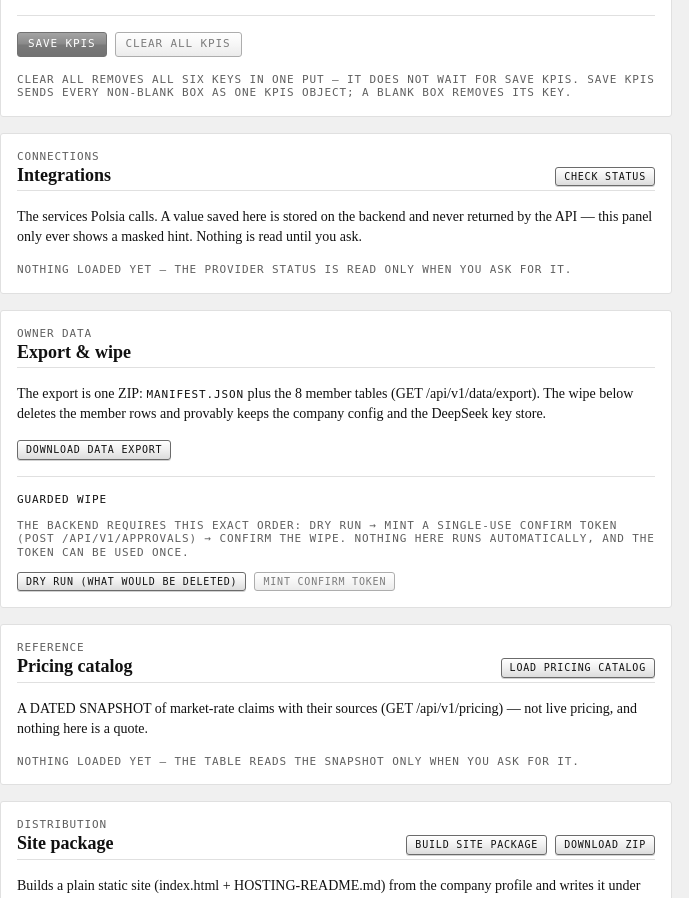
Test case: u11 settings — data export & wipe › the export downloads the REAL ZIP response (GET /api/v1/data/export)
(page scrolled)
Click the button with test id "settings-data-export" at (94, 450), box [17, 440, 171, 460]
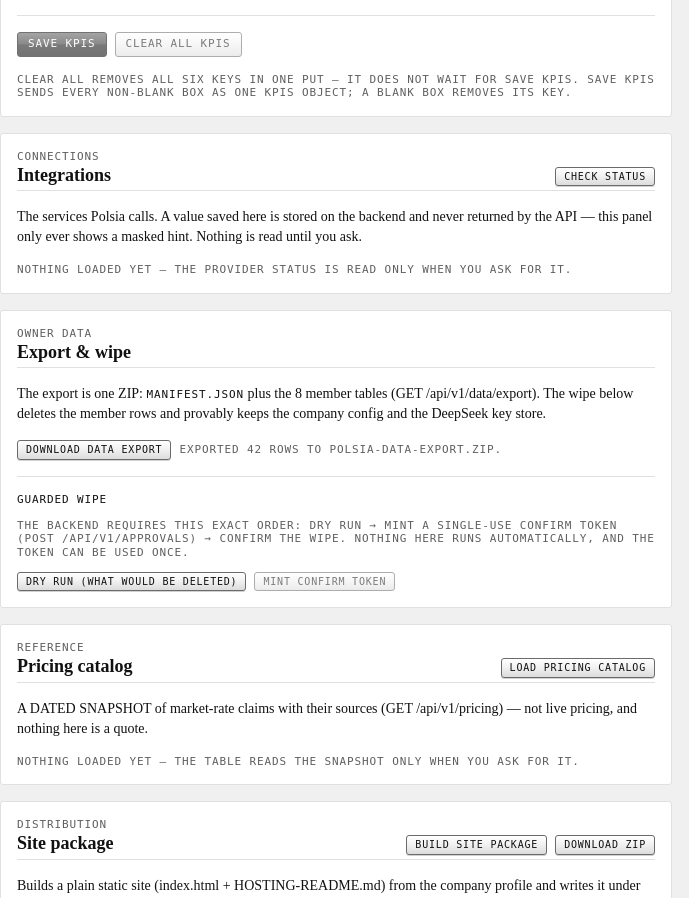
expect the message with test id "settings-data-export-done" reads "Exported 42 rows to polsia-data-export.zip.": met, box [179, 443, 502, 456]
